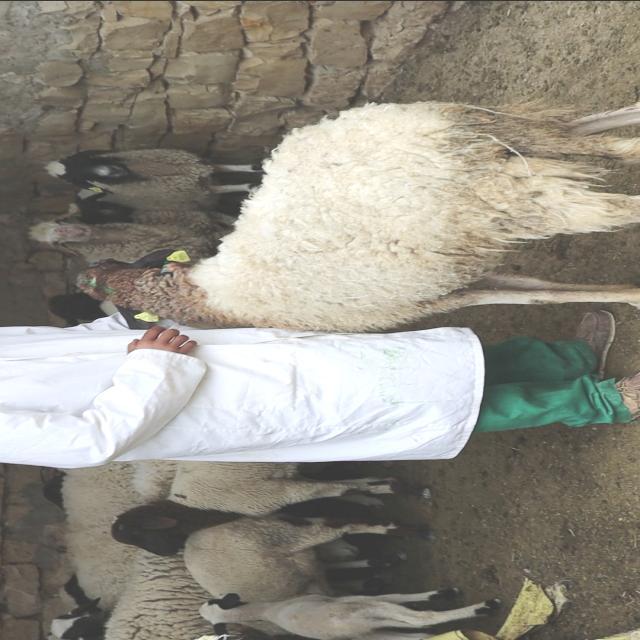Score_2: (78, 101, 639, 331)
